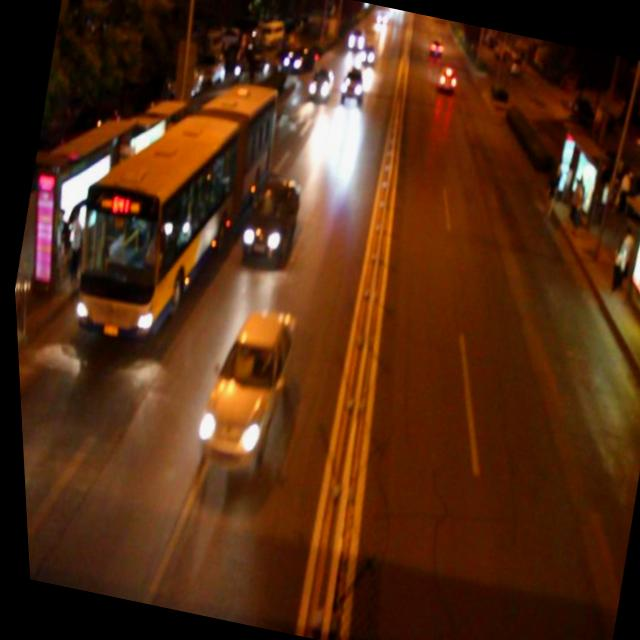car: (183, 296, 302, 472), (232, 168, 306, 272), (302, 60, 338, 106), (334, 63, 367, 106), (433, 63, 458, 93)
van: (48, 47, 283, 356)
